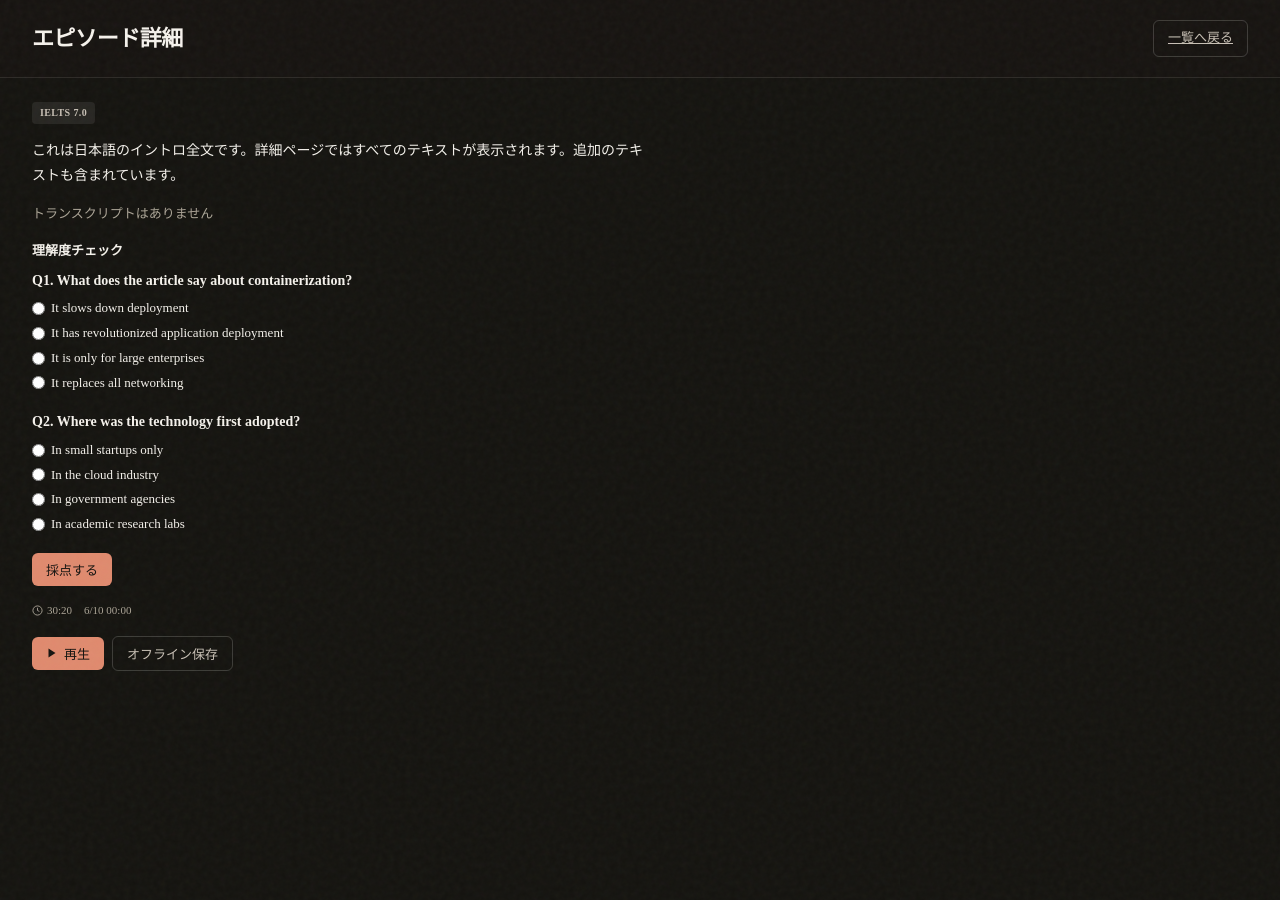
Test: PodcastDetailPage — comprehension quiz (ADR-070) › Given every answer is correct, shows a restrained Perfect stamp and correct feedback
The width and height of the screenshot is (1280, 900).
Expected: the heading "理解度チェック" is shown, [32,243,123,258]
Step 1. Click the radio button labelled "It has revolutionized application deployment" → click(38, 333), box [32,327,45,340]
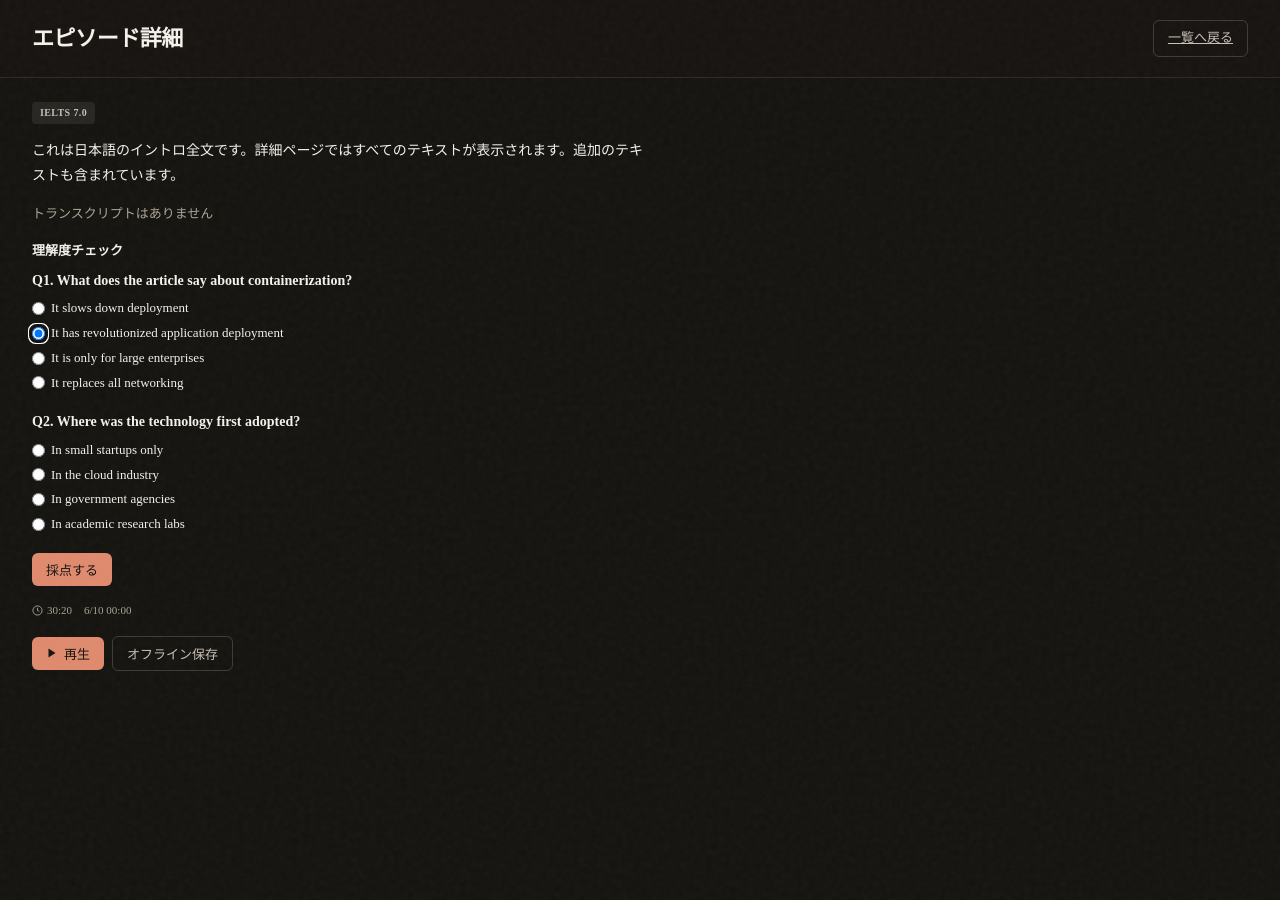
Step 2. Click the radio button labelled "In the cloud industry" → click(38, 475), box [32,468,45,481]
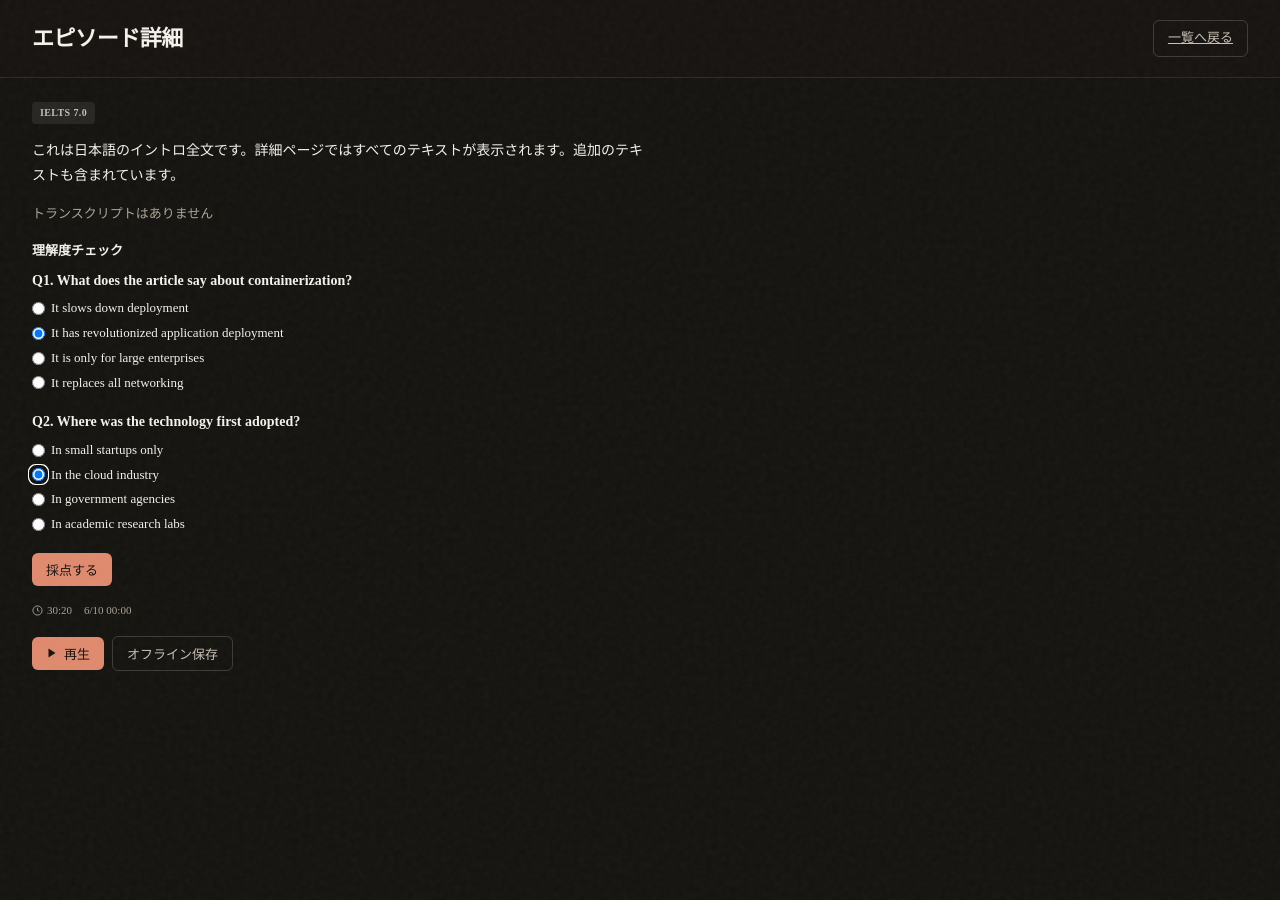
Step 3. Click the button "採点する" → click(72, 569), box [32,553,112,586]
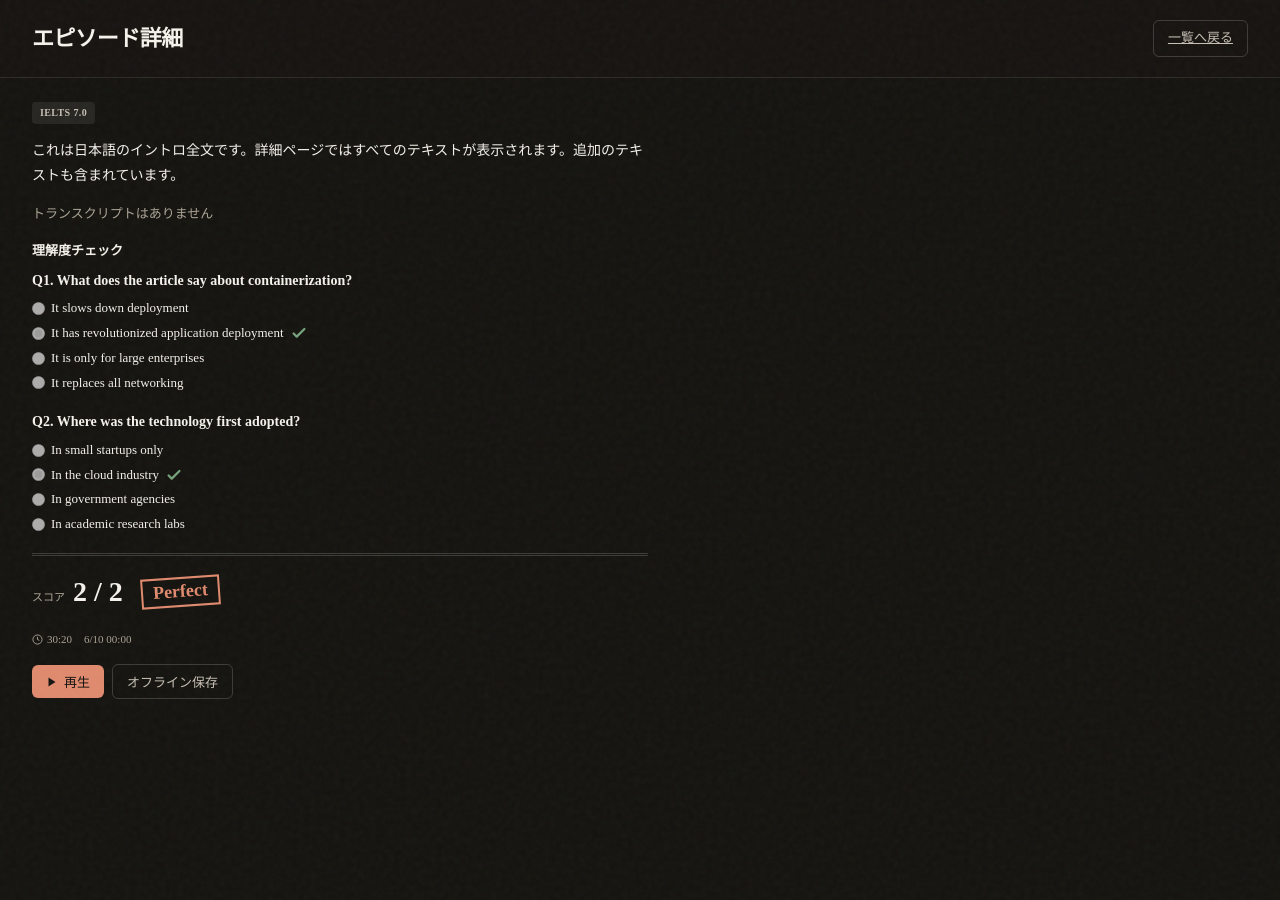
Now the text "Perfect" is shown, box [140,575,221,610]
